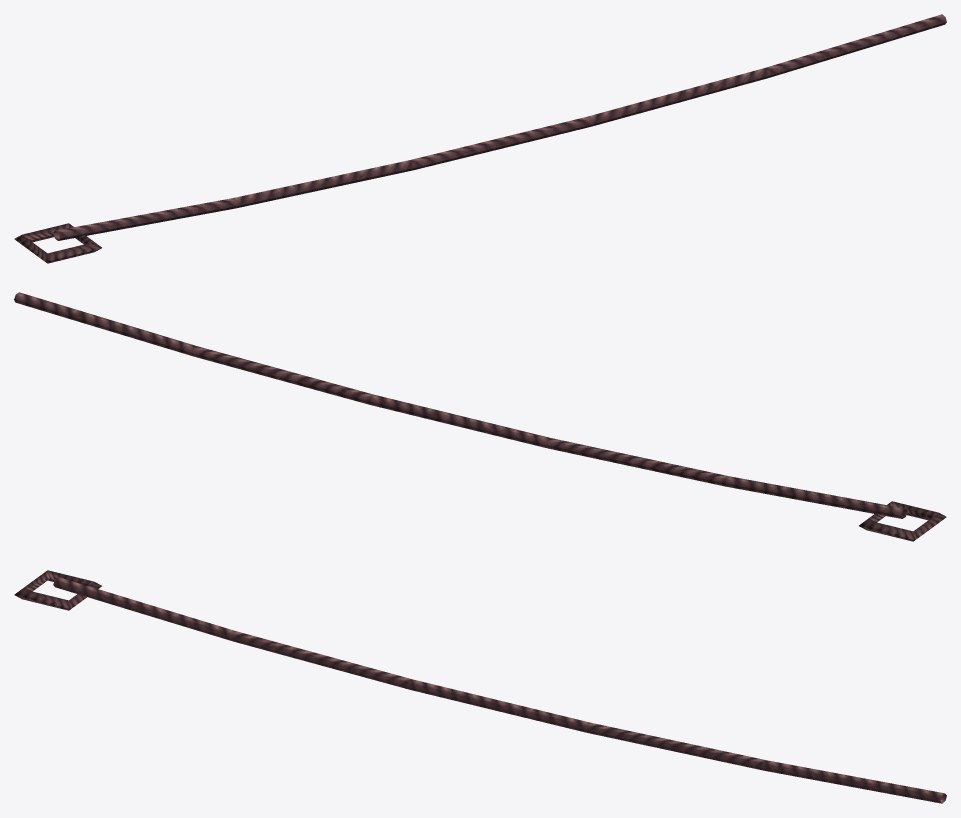
File: FB6_shuizi01.FBX
3 renders of one model, top to bottom at view 1: azimuth 30°, elevation 25°; view 2: azimuth 150°, elevation 25°; view 3: azimuth 330°, elevation 25°, orthographic.
Parts seen in each view (by area): view 1: FB6_shuizi01_001, FB6_shuizi01_002; view 2: FB6_shuizi01_001, FB6_shuizi01_002; view 3: FB6_shuizi01_001, FB6_shuizi01_002.
Boxes of the visible parts, x1,y1,x2,y2 form: FB6_shuizi01_001: (53,14,946,240); FB6_shuizi01_002: (14,223,101,263); FB6_shuizi01_001: (14,292,907,518); FB6_shuizi01_002: (859,501,946,541); FB6_shuizi01_001: (53,577,946,803); FB6_shuizi01_002: (14,570,101,610).
Size of the model in its own units: 2395 by 60.7 by 142.
1 material, 1 textured.
